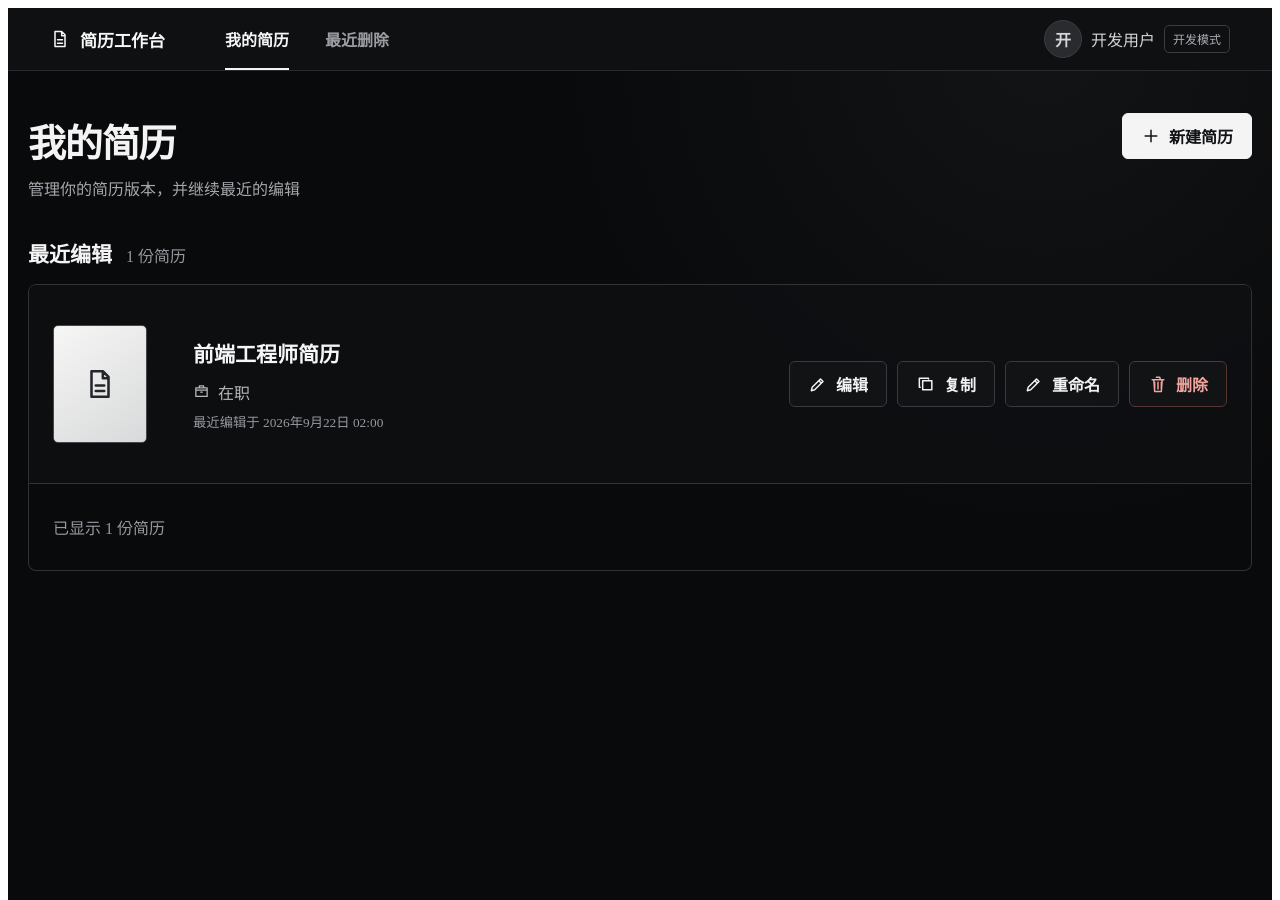
Test case: resume dashboard › retains the card and rename input when card actions fail
Expected: the link "前端工程师简历" is shown, [193,342,340,366]
Click the button "复制" at [946, 384], box [897,361,995,407]
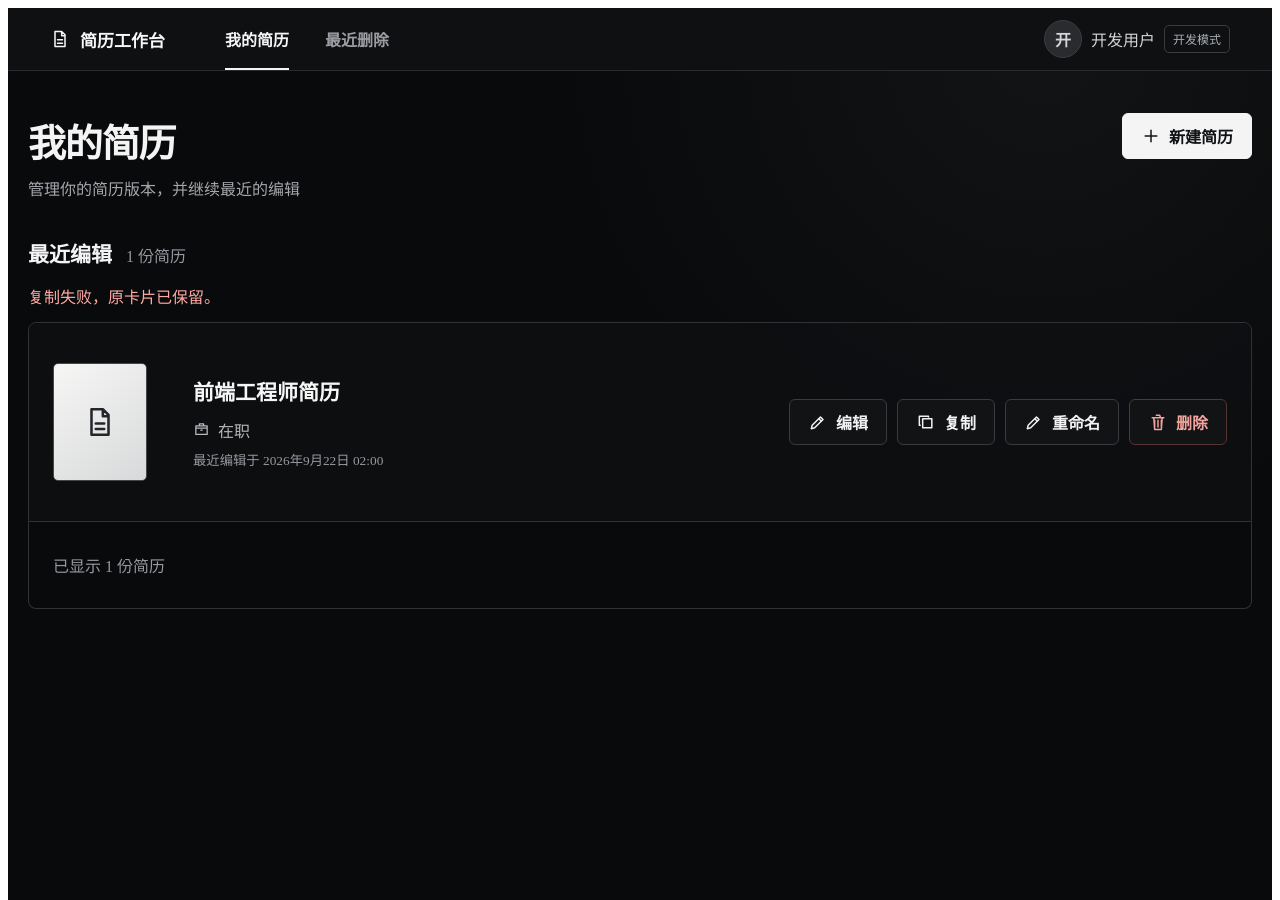
Result: the message shows "复制失败" at [28,289,220,306]
Click the button "重命名" at [1062, 422], box [1005,399,1119,445]
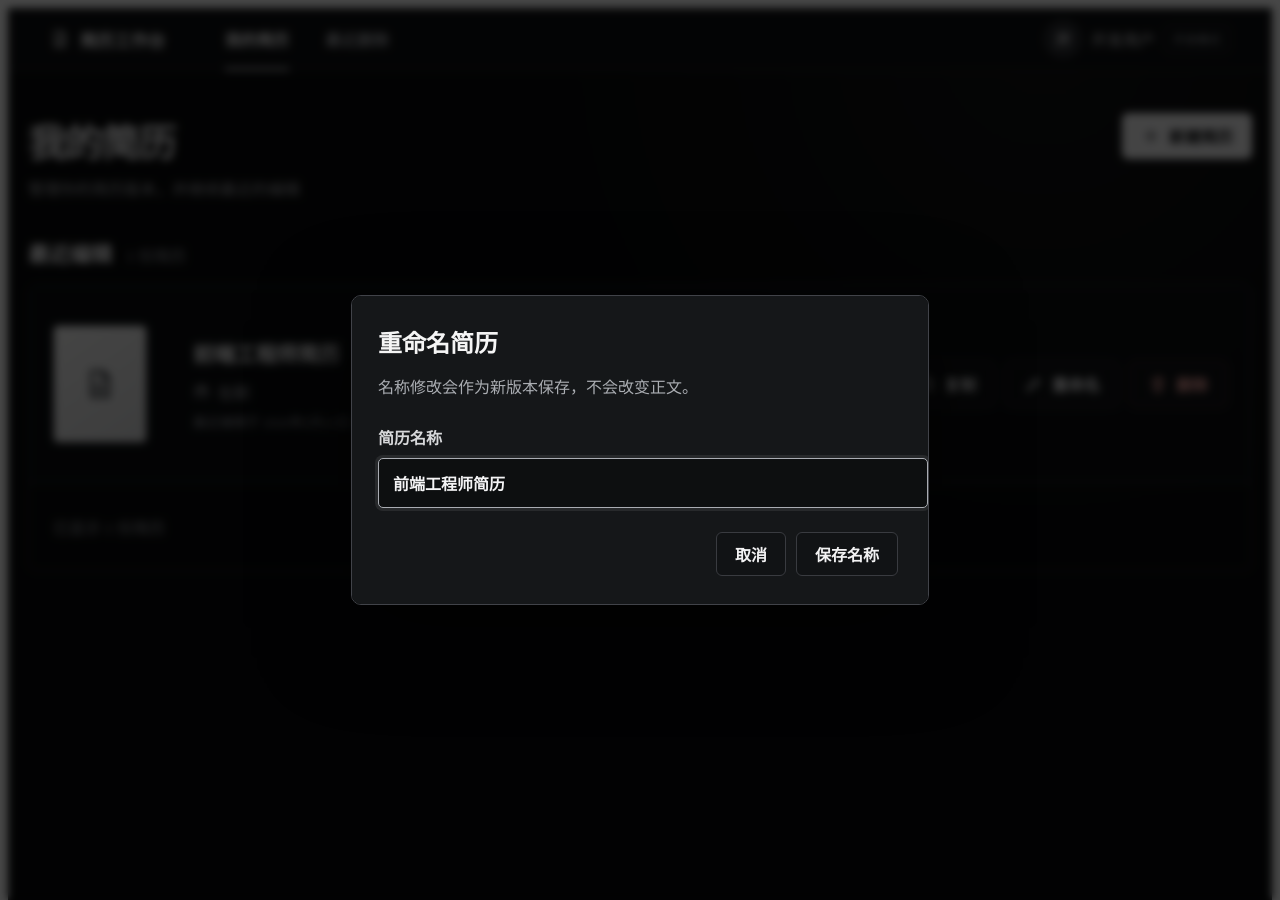
Replace the text in the field labelled "简历名称" with "失败后保留的名称" at [653, 483], box [378,458,928,508]
Click the button "保存名称" at [847, 554], box [796,532,898,576]
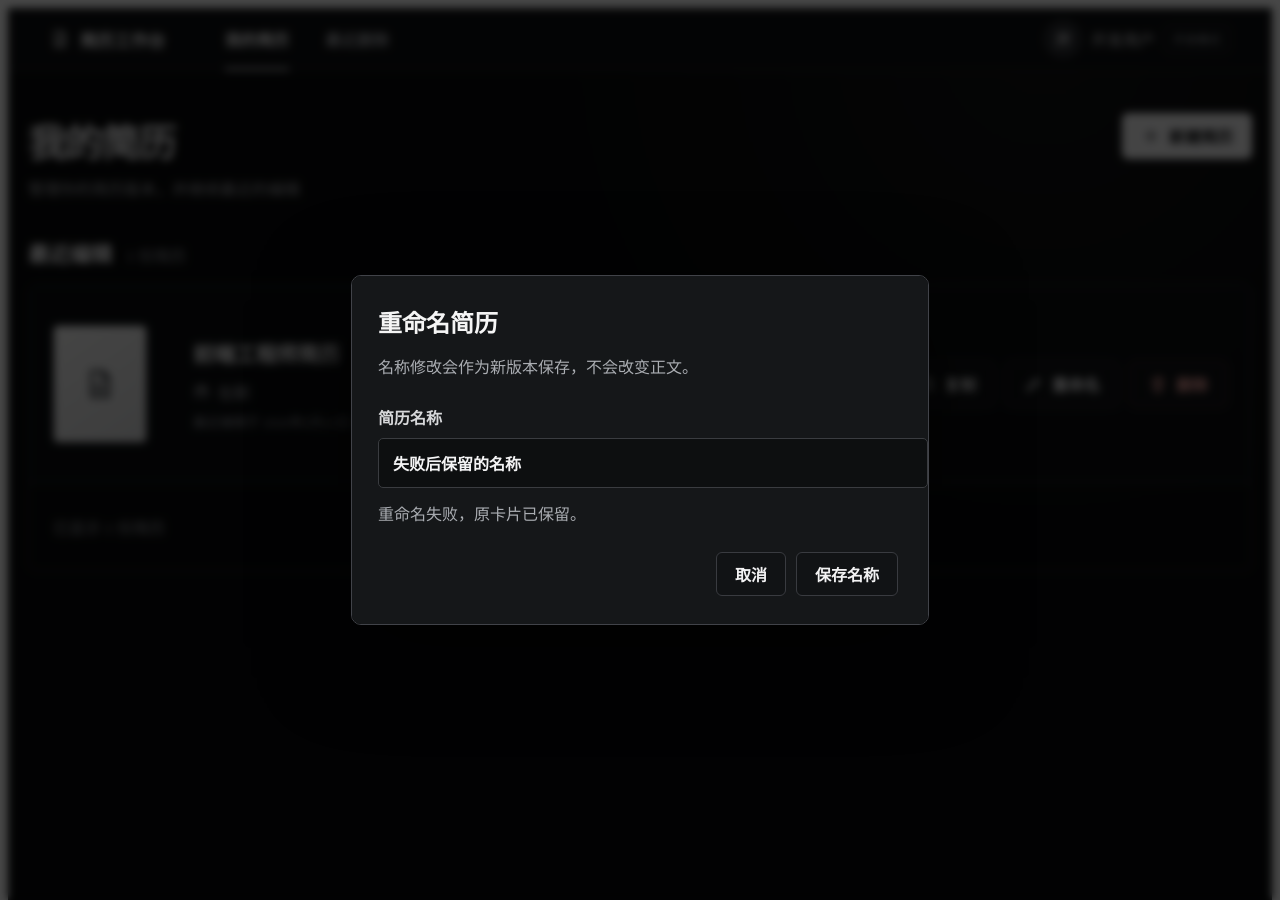
Result: the message shows "重命名失败" at [378,506,586,523]
Click the button "取消" at [751, 574], box [716,552,786,596]
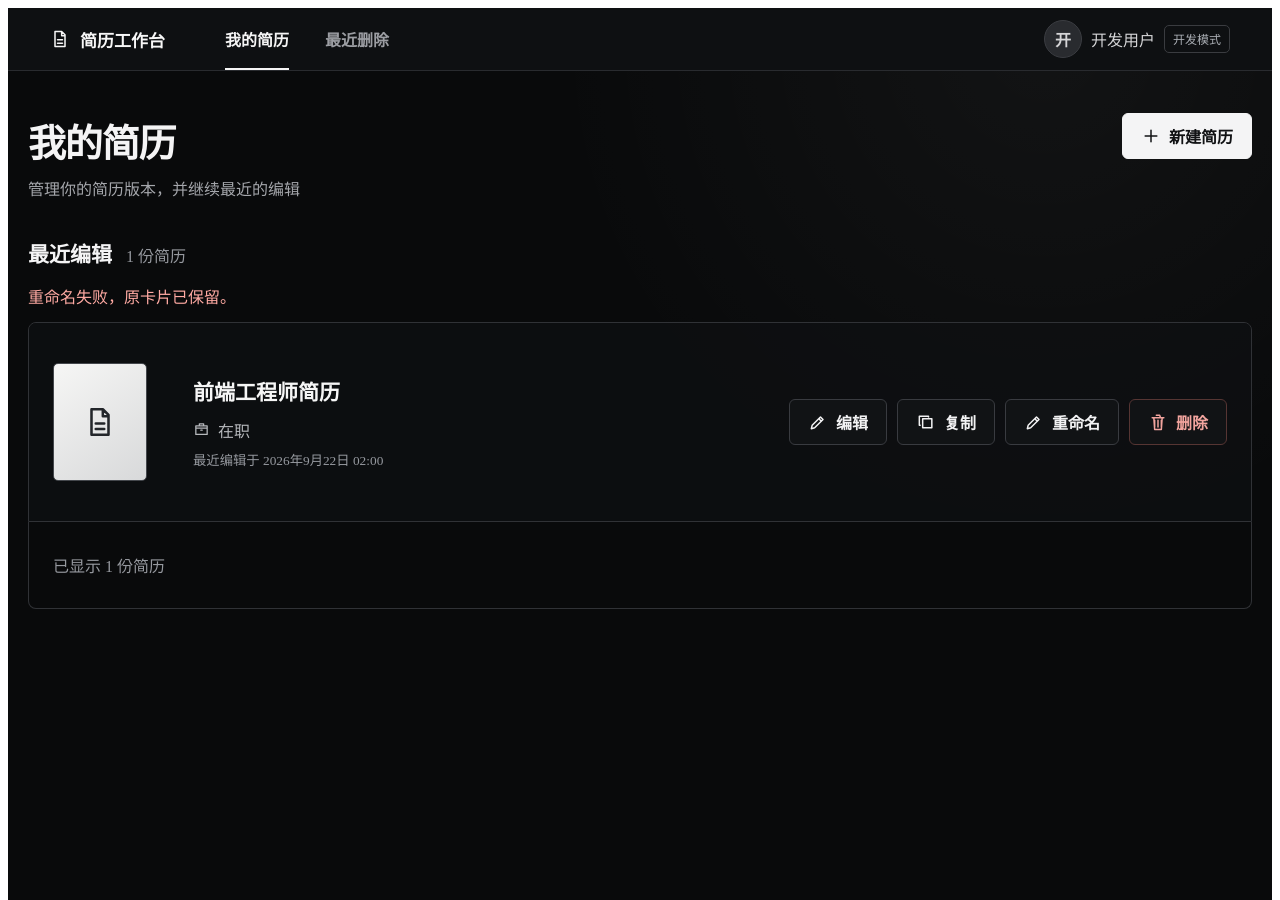
Click the button "删除" at [1178, 422], box [1129,399,1227,445]
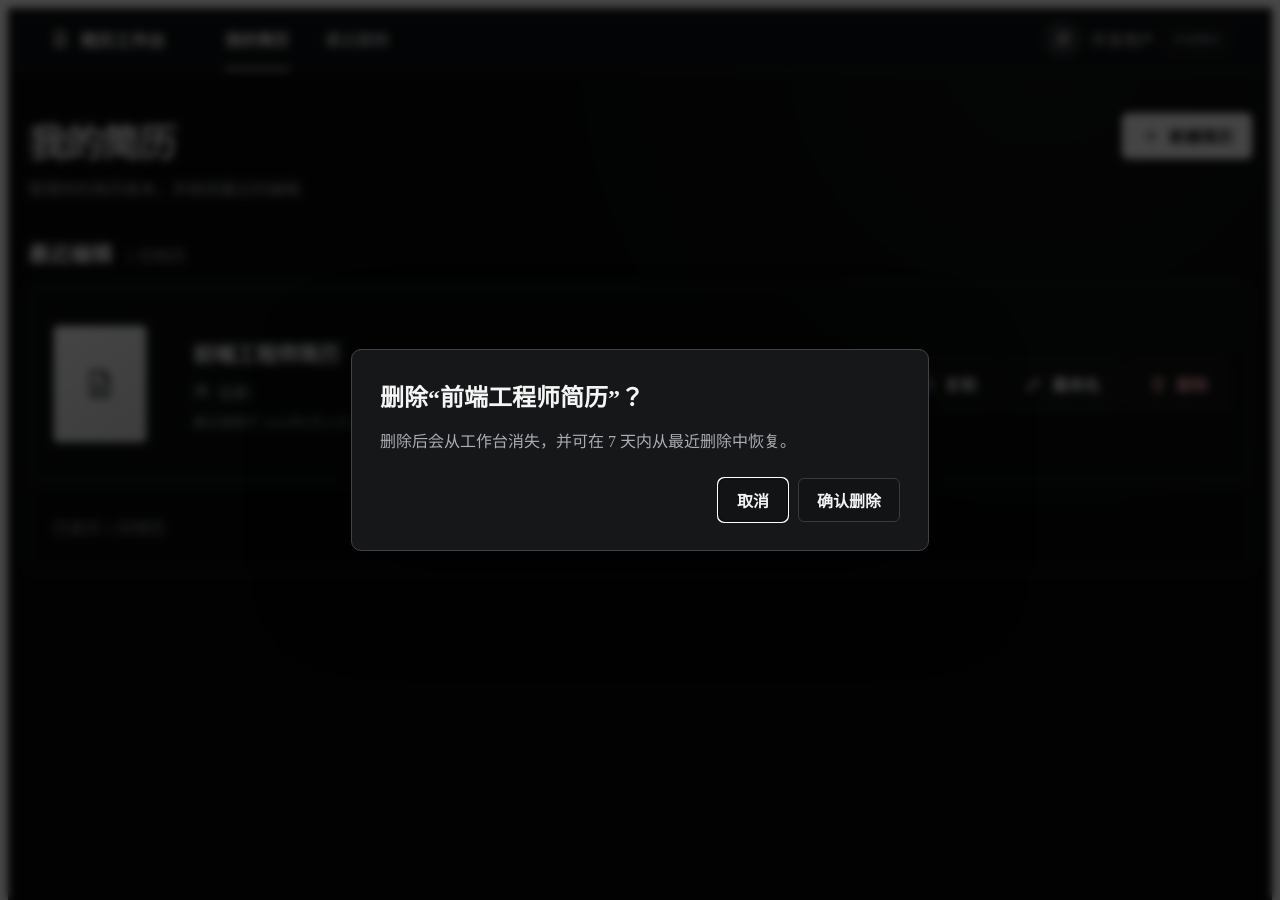
Click the button "确认删除" at [849, 500], box [798,478,900,522]
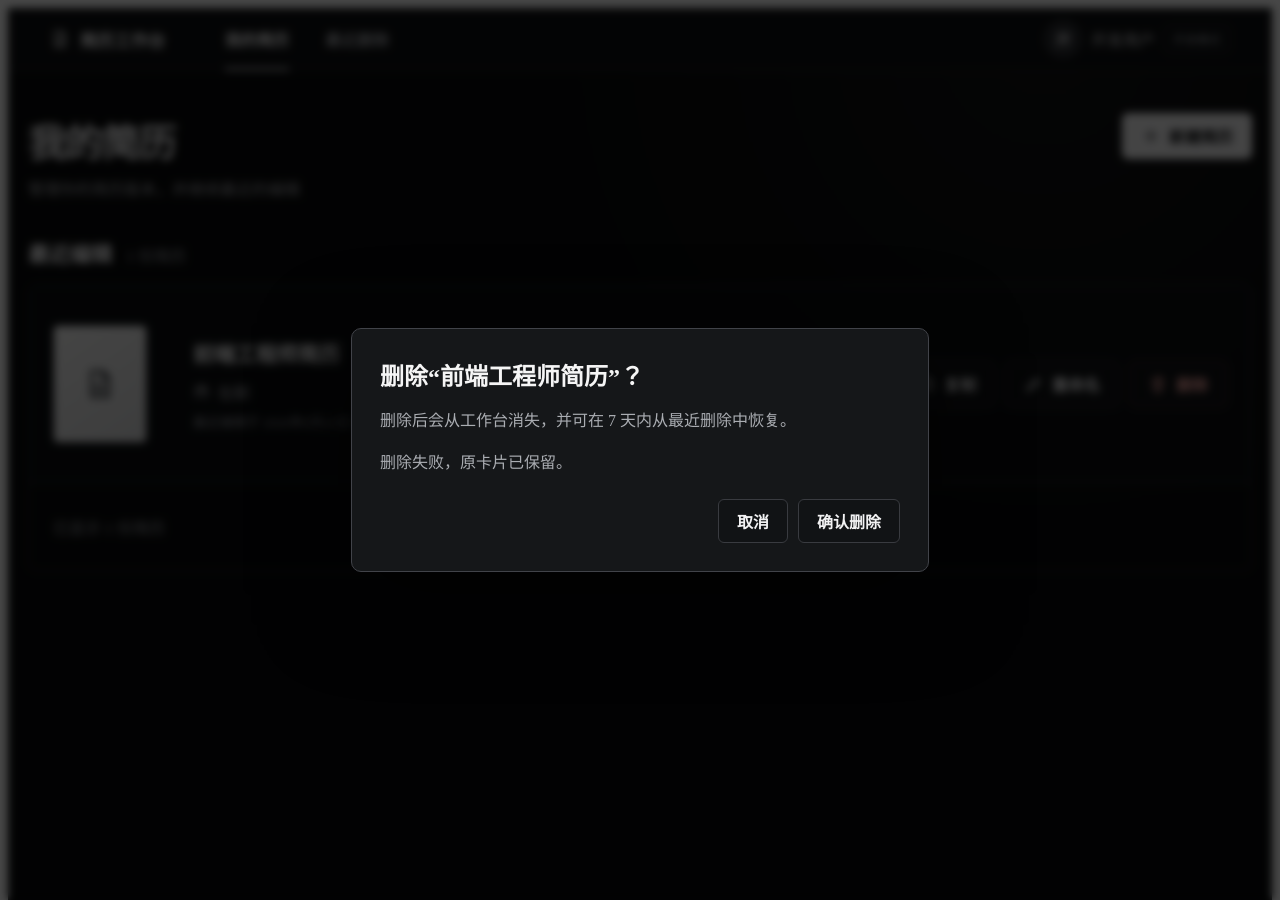
Result: the message shows "删除失败" at [380,454,572,470]
